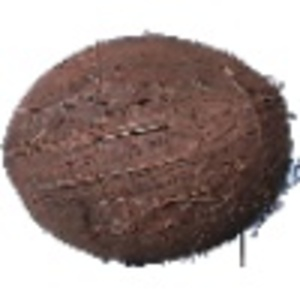coco: (4, 34, 300, 267)
